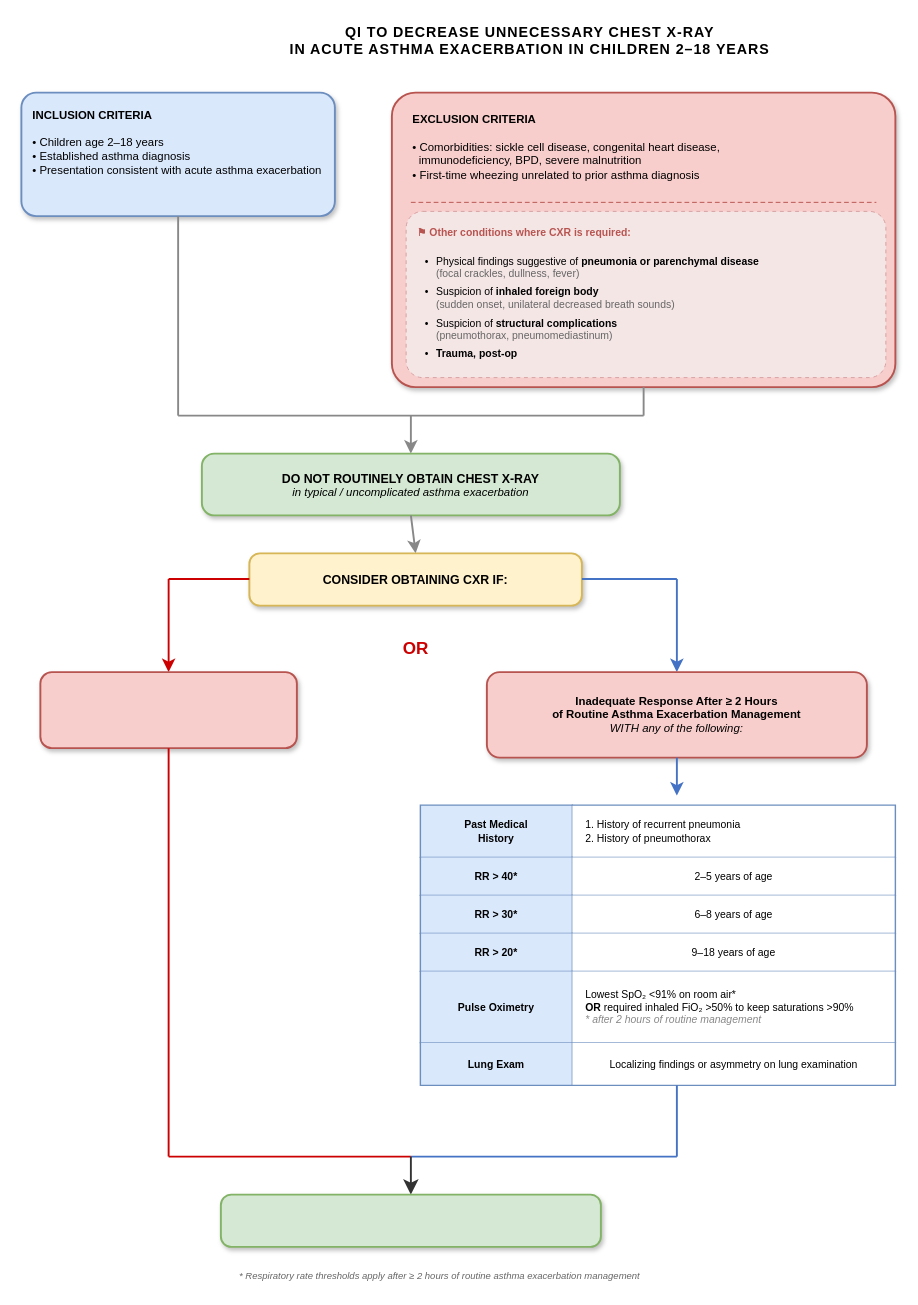
This 918x1305 diagram has some shape labels left out. The centre of each missing label's shape, as x and y in pixels:
"Severe Respiratory Distress Respiratory Score 7–12" goes at [169,711].
"→ OBTAIN CHEST X-RAY" goes at [411,1221].
